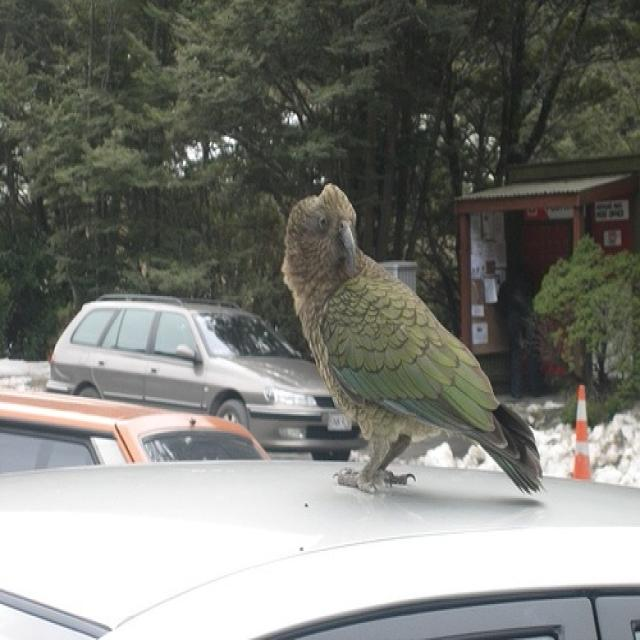bird: (272, 174, 548, 510)
car: (0, 457, 639, 635), (45, 293, 370, 462), (1, 392, 262, 479)
